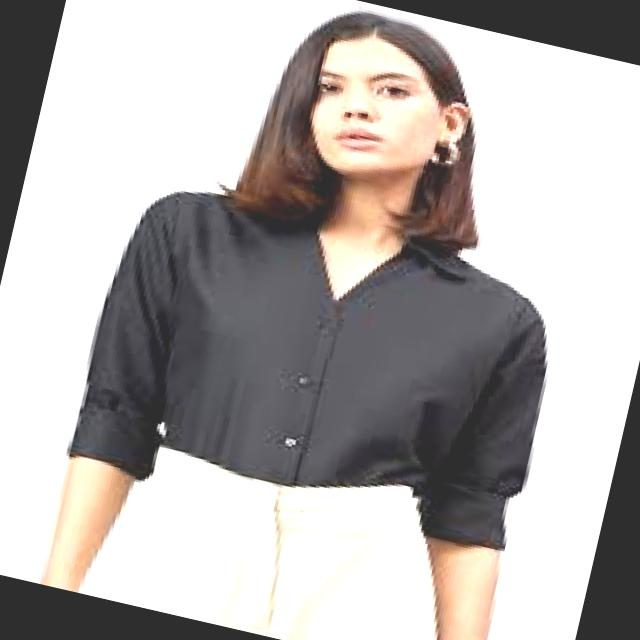face: (309, 37, 469, 179)
lower-wear: (89, 445, 437, 639)
top-wear: (67, 190, 547, 549)
